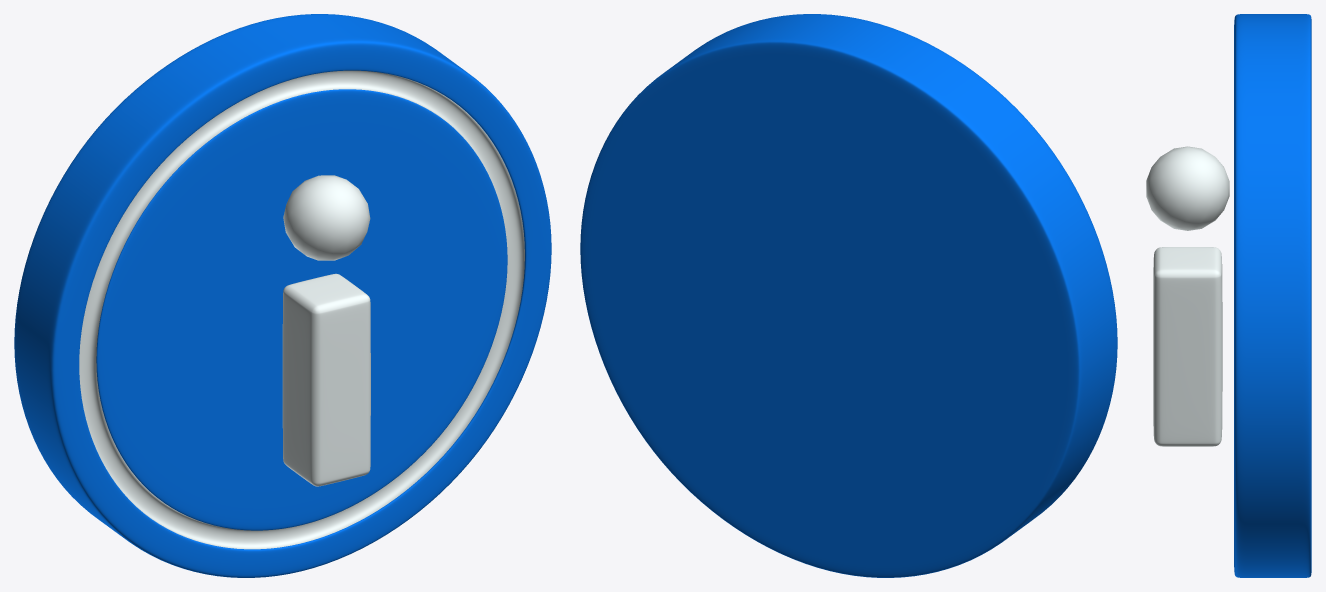
Rendered from info.fbx.
3 renders of one model, left to right at view 1: azimuth 30°, elevation 25°; view 2: azimuth 150°, elevation 25°; view 3: azimuth 270°, elevation 25°, orthographic. The views are drawn at different scales.
Visible parts, largest first — view 1: Cylinder, Cube_1, Sphere; view 2: Cylinder; view 3: Cylinder, Cube_1, Sphere.
Boxes of the visible parts, <box> form: Cylinder: <box>14,14,551,577</box>; Cube_1: <box>282,273,370,486</box>; Sphere: <box>283,175,370,260</box>; Cylinder: <box>580,14,1117,577</box>; Cylinder: <box>1234,14,1311,577</box>; Cube_1: <box>1153,247,1222,446</box>; Sphere: <box>1146,146,1229,230</box>.
Size of the model in its own units: 27.27 by 27.27 by 8.
